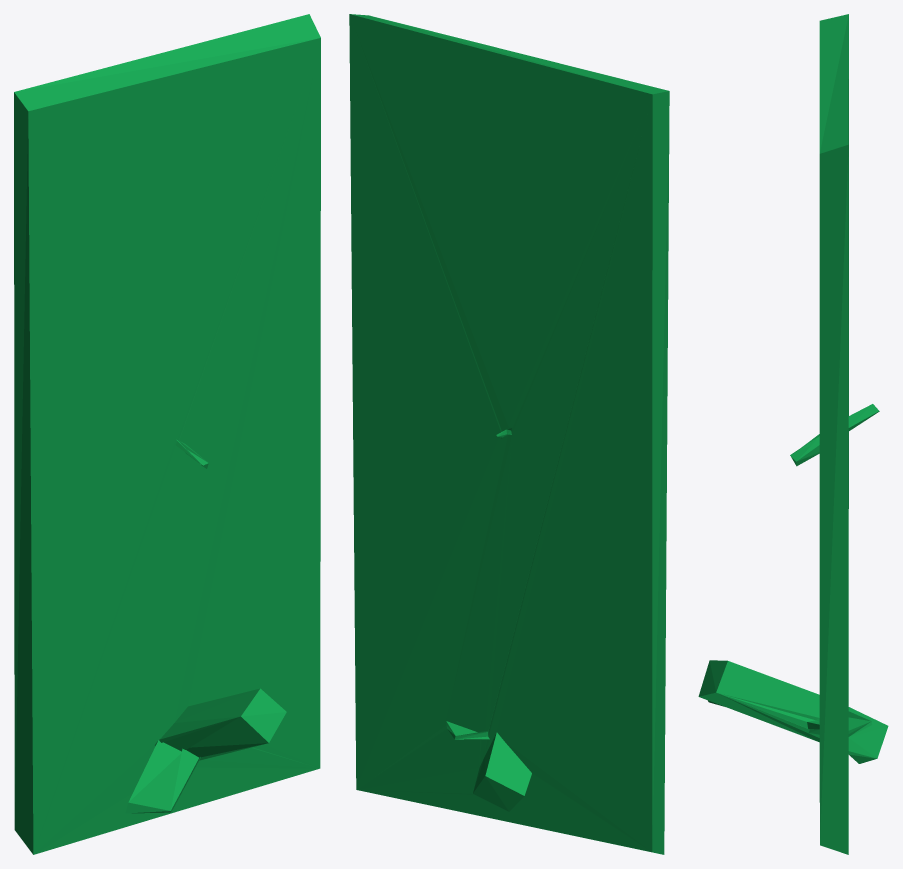
3 renders of one model, left to right at view 1: azimuth 30°, elevation 25°; view 2: azimuth 150°, elevation 25°; view 3: azimuth 270°, elevation 25°, orthographic. The views are drawn at different scales.
Visible parts, largest first — view 1: 701_Cube.2815; view 2: 701_Cube.2815; view 3: 701_Cube.2815.
Part boxes in pixels (left/top/right/bottom): 701_Cube.2815: left=14, top=14, right=320, bottom=854; 701_Cube.2815: left=349, top=14, right=669, bottom=854; 701_Cube.2815: left=698, top=14, right=888, bottom=854.
Size of the model in its own units: 5.02 by 12.27 by 2.94.
